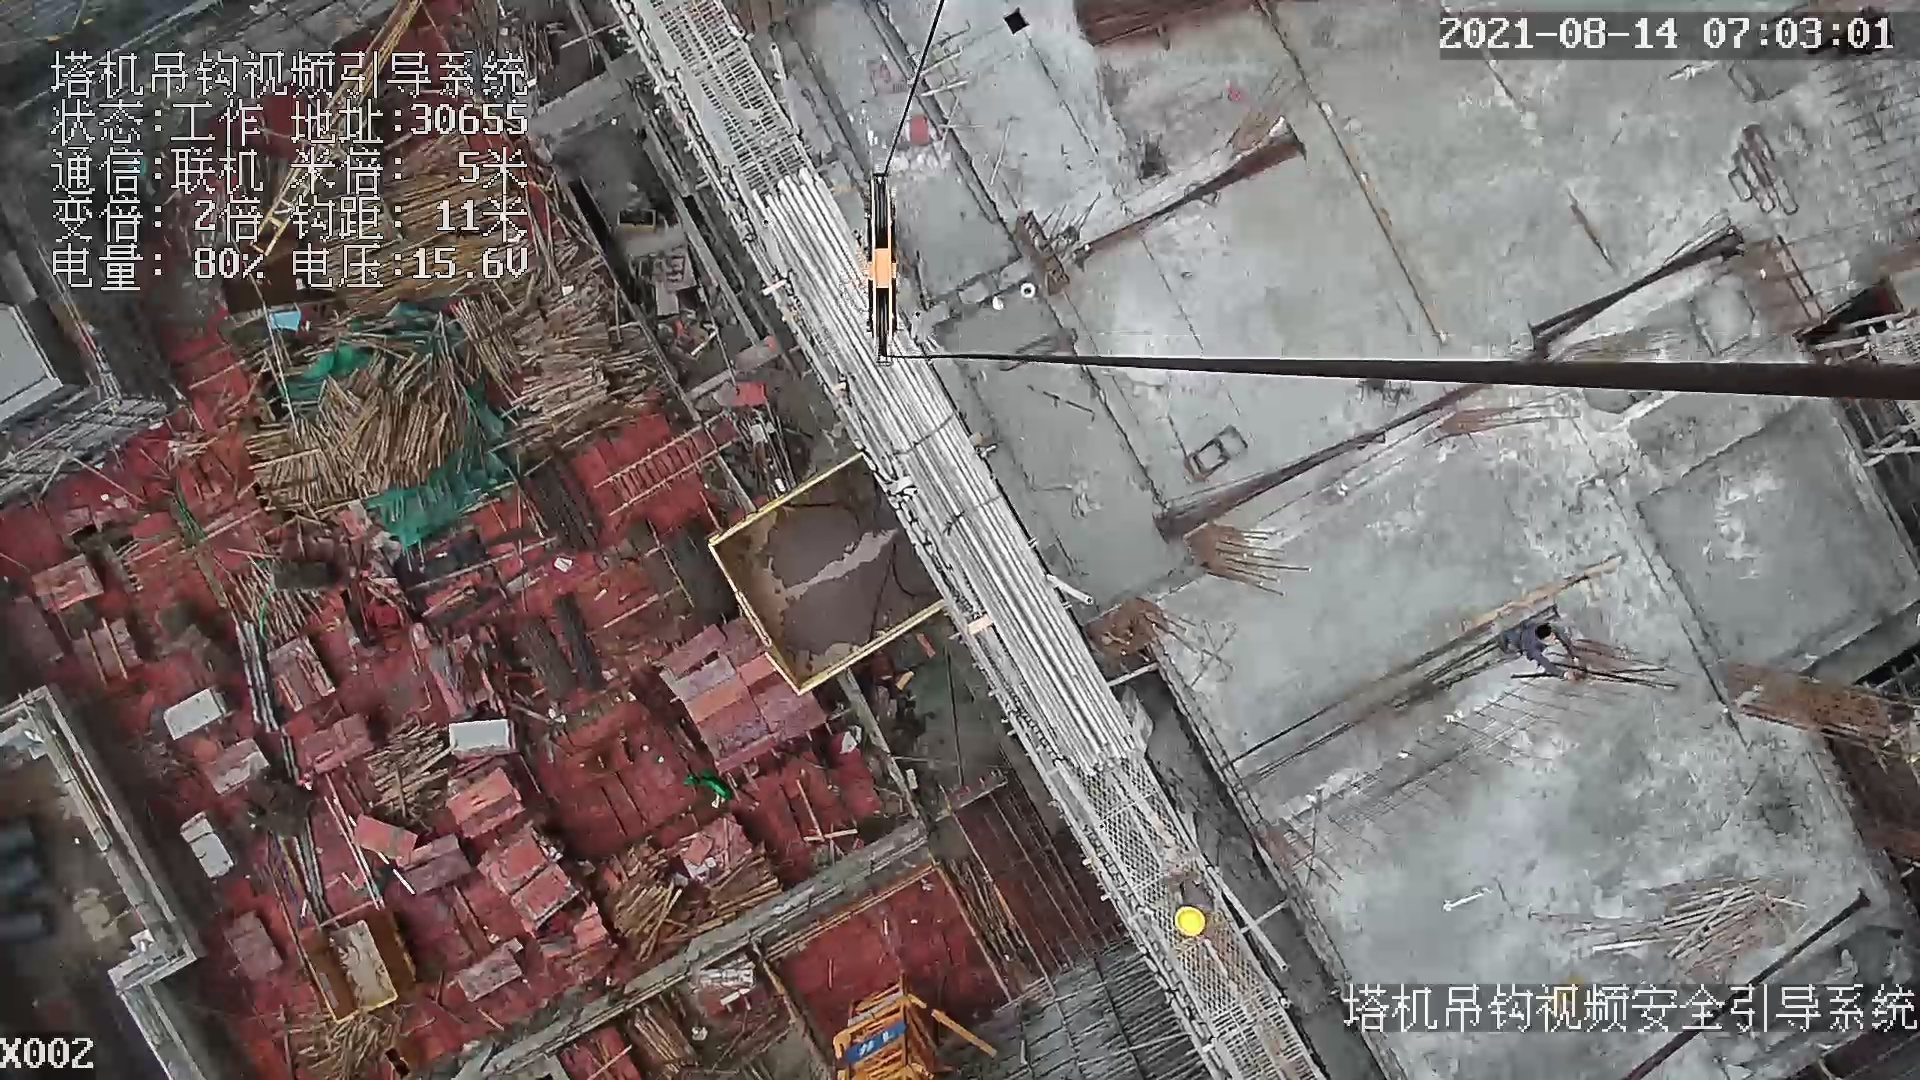helmet: (1174, 905, 1206, 936)
hook: (858, 174, 923, 371)
person: (1501, 615, 1585, 682), (1169, 871, 1219, 936)
slogan: (838, 1015, 911, 1063)
